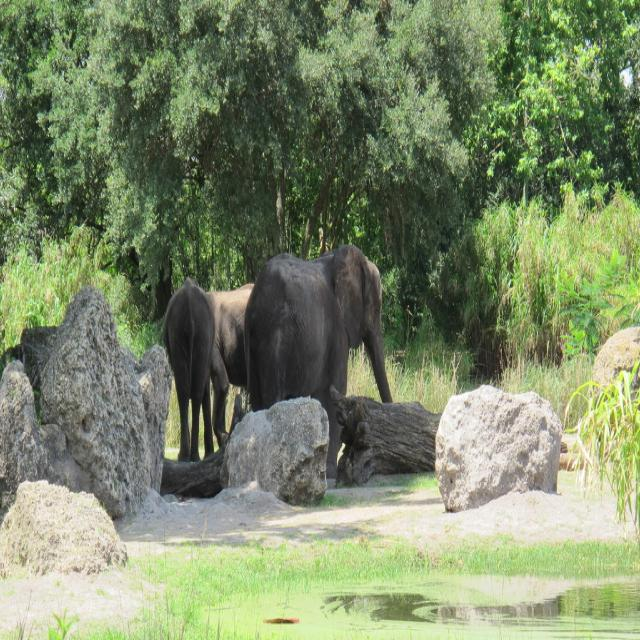Elephant: (236, 240, 394, 426), (166, 279, 224, 473), (199, 277, 256, 454)
